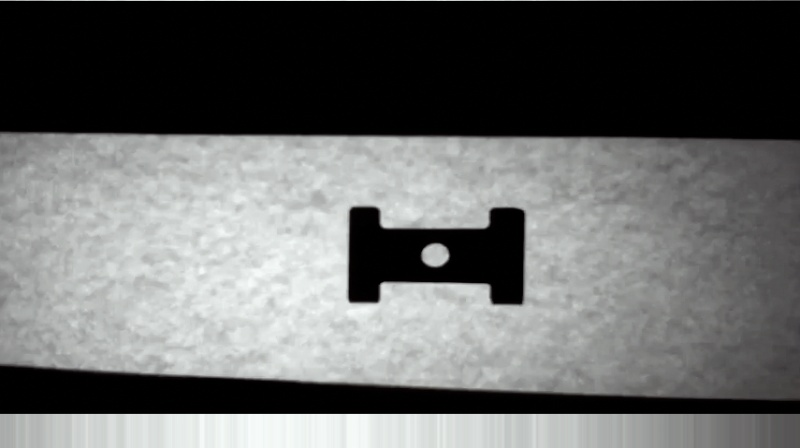O002: (341, 204, 527, 305)
